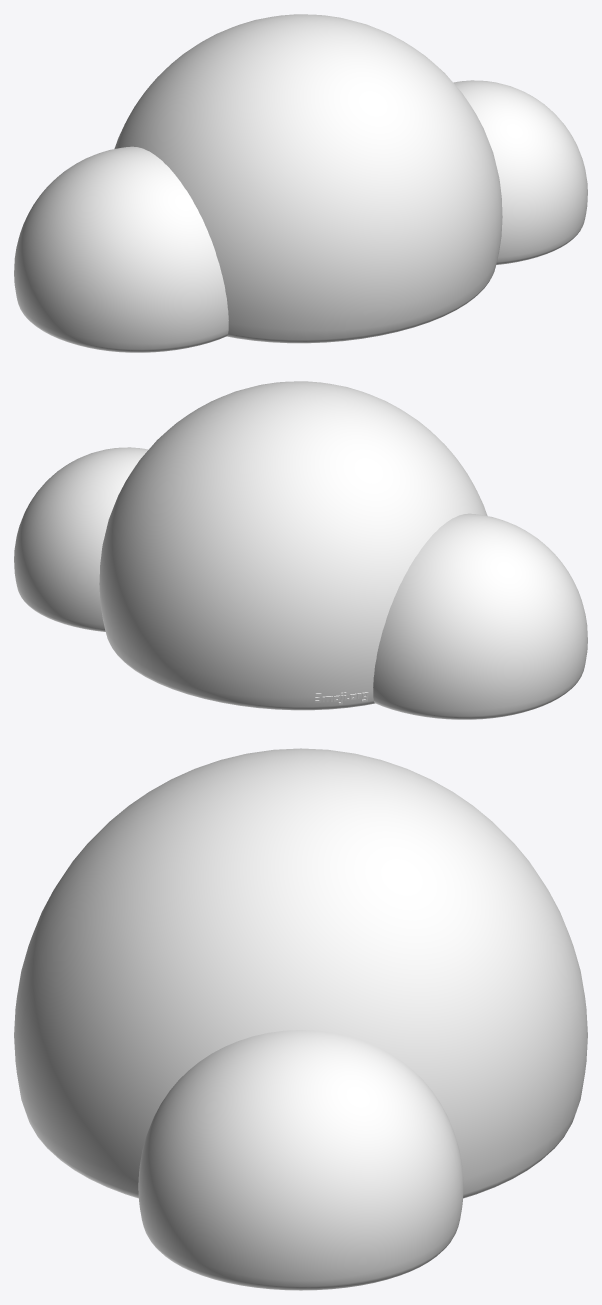
Rendered from cloud.gltf.
3 views of the same model, one above another, from view 1: azimuth 30°, elevation 25°; view 2: azimuth 150°, elevation 25°; view 3: azimuth 270°, elevation 25° (orthographic). The views are drawn at different scales.
Visible parts, largest first — view 1: Cube.195; view 2: Cube.195; view 3: Cube.195.
Boxes of the visible parts, x1=… form: Cube.195: x1=14, y1=14, x2=587, y2=352; Cube.195: x1=14, y1=381, x2=587, y2=719; Cube.195: x1=14, y1=748, x2=587, y2=1290.
Bounding box in the file's own units: 2.15 × 0.8767 × 1.37.
1 material, 1 textured.
